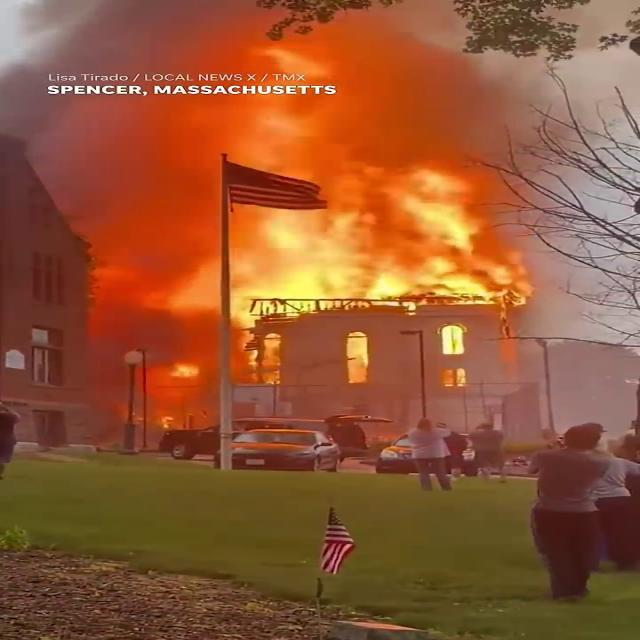Fire: (56, 33, 508, 347)
Smoke: (418, 32, 640, 218)
